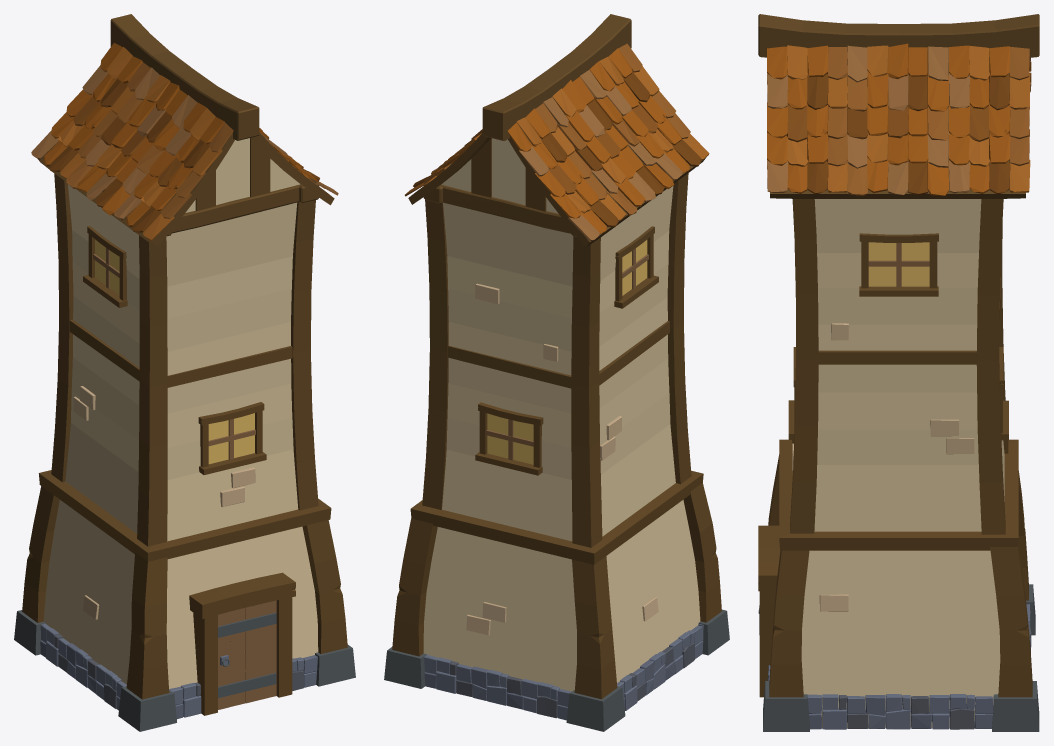
File: MillPart_01.fbx
3 renders of one model, left to right at view 1: azimuth 30°, elevation 25°; view 2: azimuth 150°, elevation 25°; view 3: azimuth 270°, elevation 25°, orthographic. The views are drawn at different scales.
Parts seen in each view (by area): view 1: MillPart_01; view 2: MillPart_01; view 3: MillPart_01.
Boxes of the visible parts, x1=… form: MillPart_01: x1=14, y1=14, x2=355, y2=731; MillPart_01: x1=384, y1=14, x2=729, y2=731; MillPart_01: x1=758, y1=14, x2=1039, y2=731.
Bounding box in the file's own units: 3.61 × 9.43 × 3.68.
